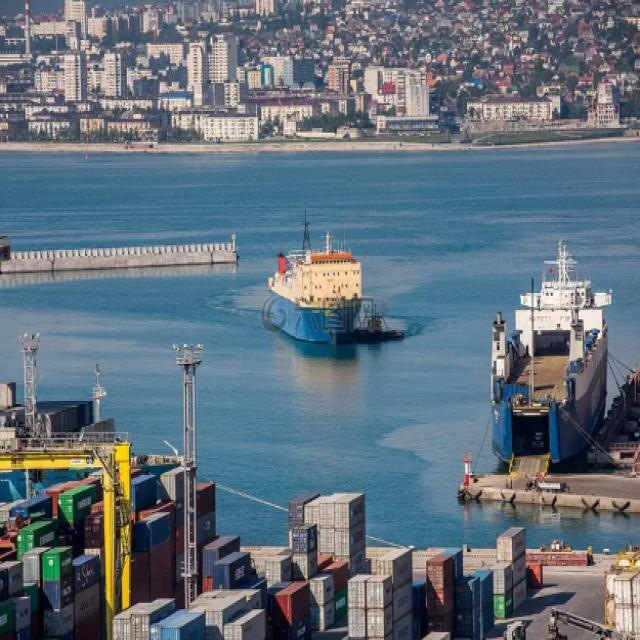cargoship: (489, 237, 609, 461), (266, 209, 362, 340), (354, 304, 404, 345)
